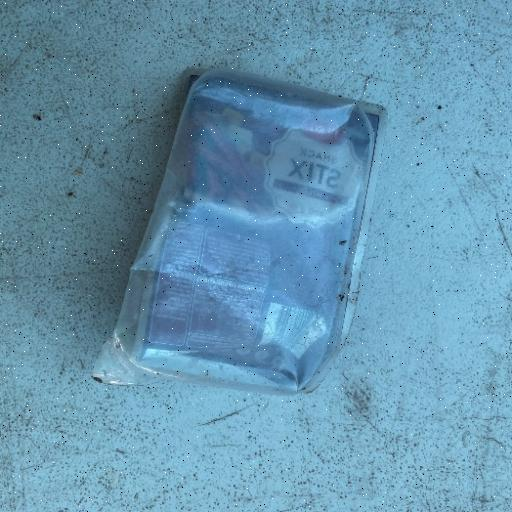Plastic: (91, 66, 387, 396)
